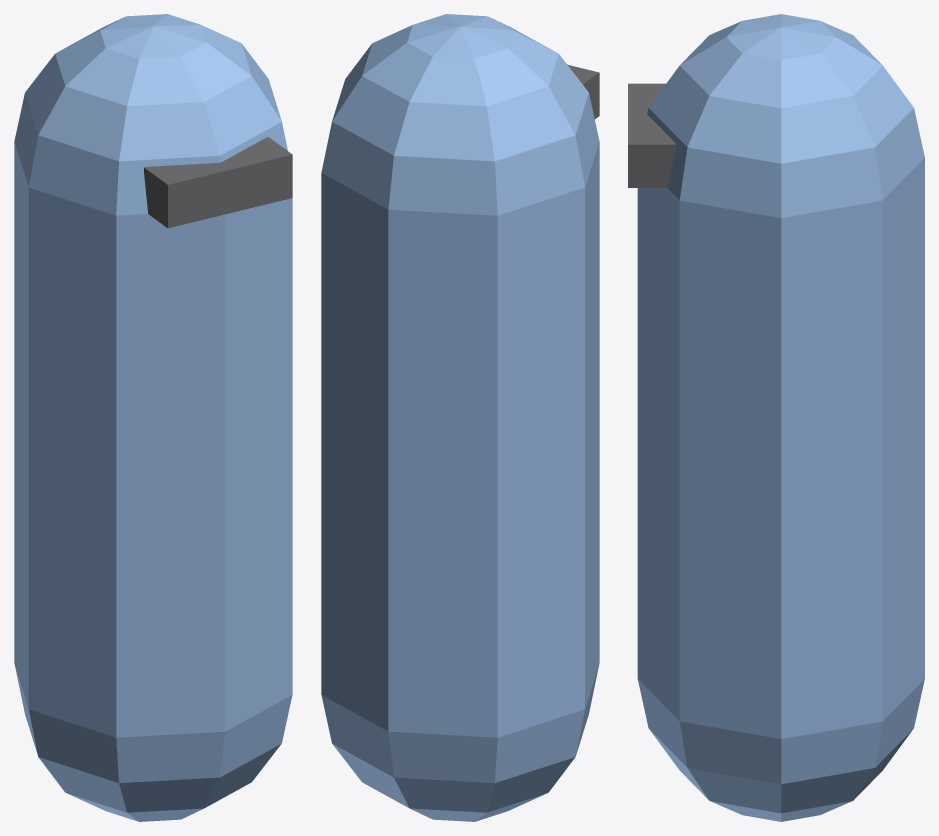
File: player_scale_ref.glb
The picture shows the model from 3 angles, left to right: view 1: azimuth 30°, elevation 25°; view 2: azimuth 150°, elevation 25°; view 3: azimuth 270°, elevation 25°; orthographic projection.
Visible parts, largest first — view 1: player_scale_ref_player, player_scale_ref_dark; view 2: player_scale_ref_player, player_scale_ref_dark; view 3: player_scale_ref_player, player_scale_ref_dark.
Part boxes in pixels (x1,y1,x2,y2): player_scale_ref_player: (14,14,292,821); player_scale_ref_dark: (144,137,292,228); player_scale_ref_player: (321,14,599,821); player_scale_ref_dark: (567,64,599,119); player_scale_ref_player: (637,14,924,821); player_scale_ref_dark: (628,83,675,187).
Bounding box in the file's own units: 0.6 × 1.8 × 0.62.
